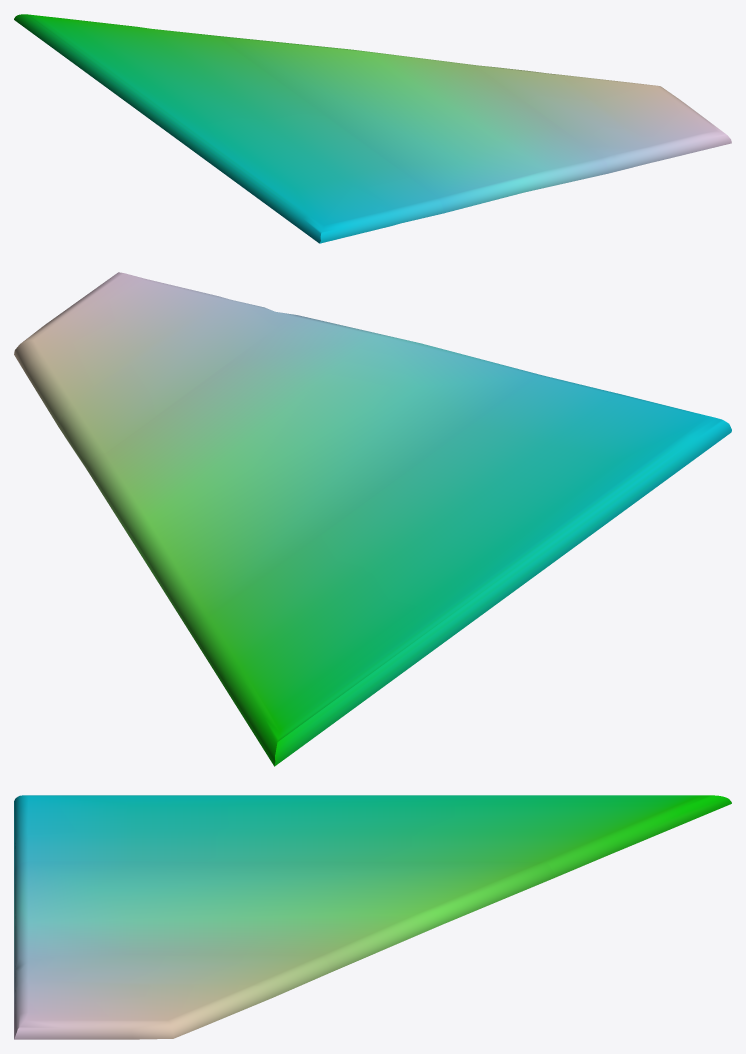
File: SM_ROAD_19_5__45_27_buffer.FBX
3 views of the same model, one above another, from view 1: azimuth 30°, elevation 25°; view 2: azimuth 150°, elevation 25°; view 3: azimuth 270°, elevation 25° (orthographic). The views are drawn at different scales.
Visible parts, largest first — view 1: SM_ROAD_19_5__45_27_buffer; view 2: SM_ROAD_19_5__45_27_buffer; view 3: SM_ROAD_19_5__45_27_buffer.
Part boxes in pixels (x1=…): SM_ROAD_19_5__45_27_buffer: x1=14, y1=14, x2=731, y2=243; SM_ROAD_19_5__45_27_buffer: x1=14, y1=272, x2=731, y2=766; SM_ROAD_19_5__45_27_buffer: x1=14, y1=795, x2=731, y2=1039.
Size of the model in its own units: 2005 by 2578 by 58.98.
